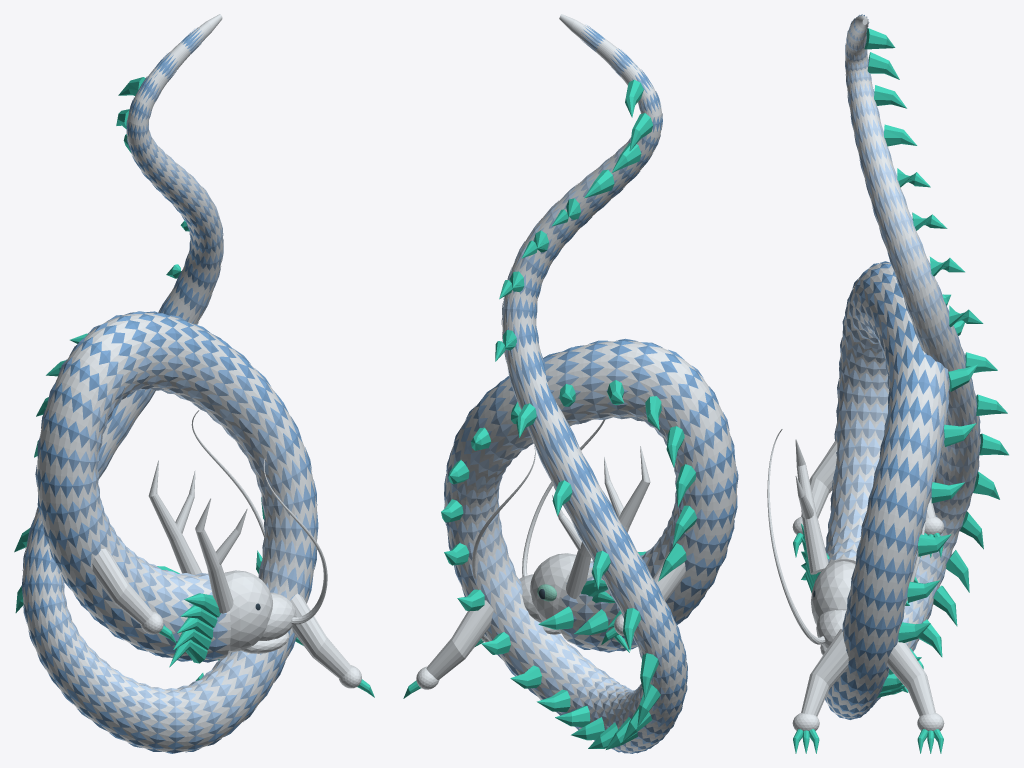
Rendered from Aoki_Odo_Dragon_Silver_Blue_v2.glb.
3 renders of one model, left to right at view 1: azimuth 30°, elevation 25°; view 2: azimuth 150°, elevation 25°; view 3: azimuth 270°, elevation 25°, orthographic.
Visible parts, largest first — view 1: world; view 2: world; view 3: world.
Part boxes in pixels (<box>): world: <box>14,14,374,753</box>; world: <box>403,14,738,753</box>; world: <box>767,14,1008,753</box>.
Bounding box in the file's own units: 2.29 × 5.35 × 1.65.
